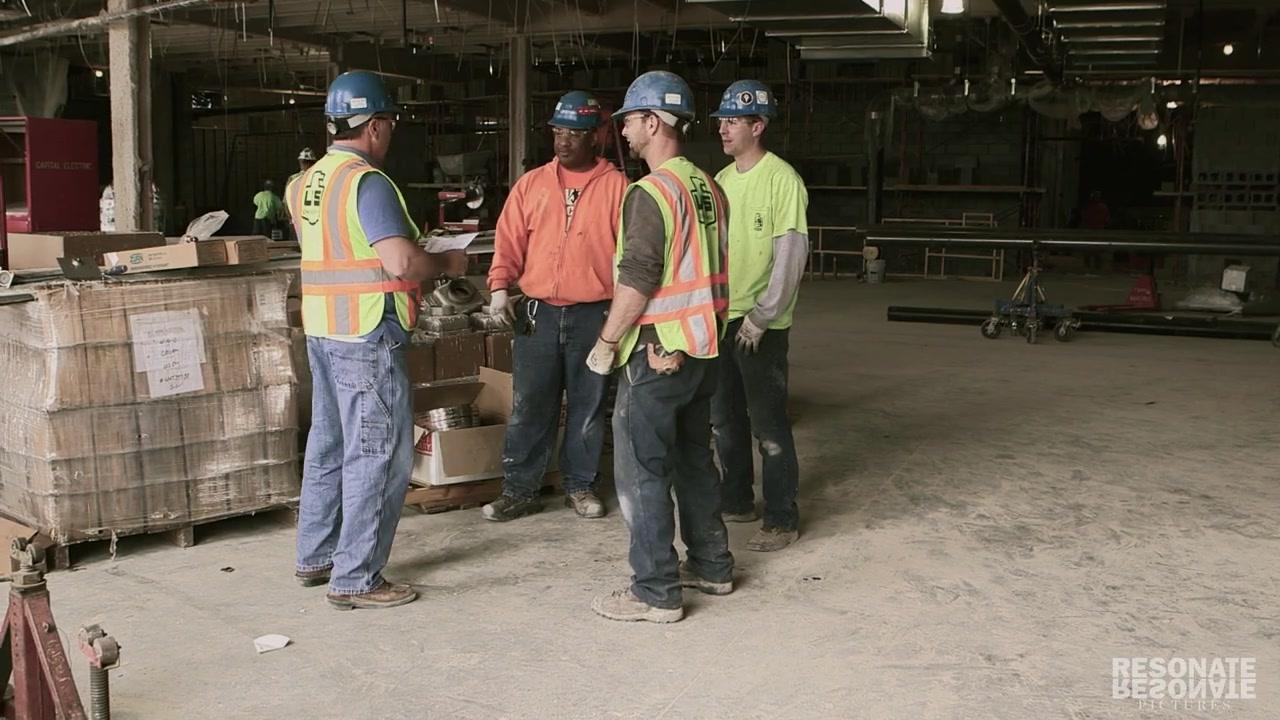vest: (283, 150, 415, 340), (614, 156, 718, 367)
